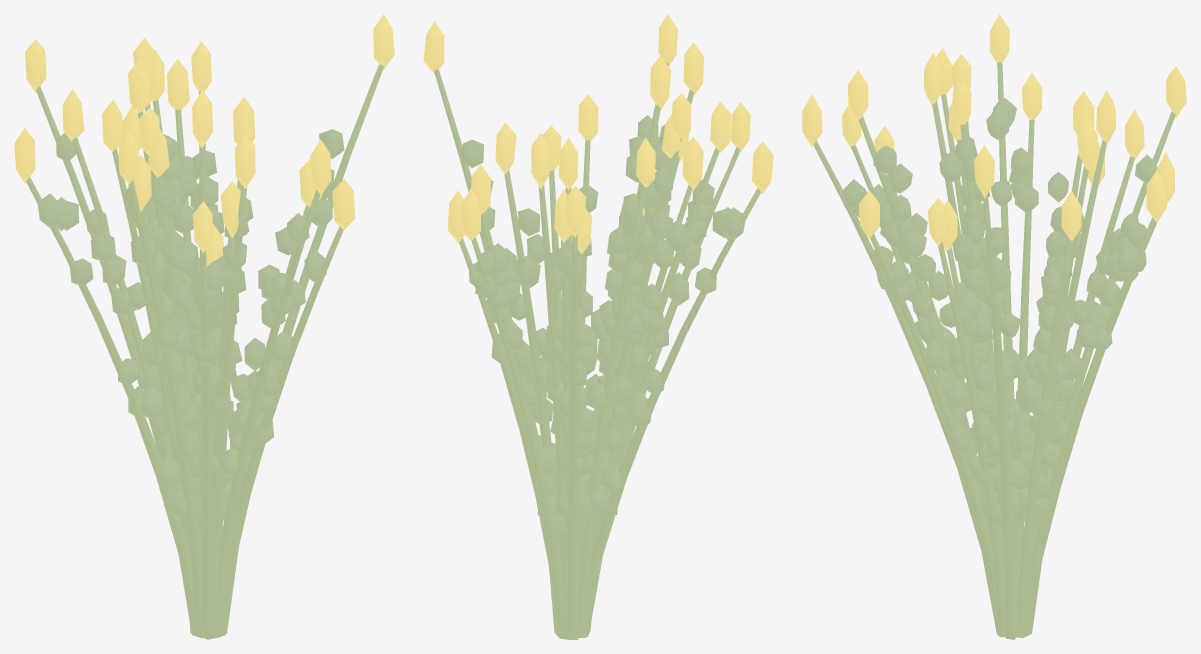
Rendered from Blender_Ocotillo_3.glb.
3 views of the same model, side by side, from view 1: azimuth 30°, elevation 25°; view 2: azimuth 150°, elevation 25°; view 3: azimuth 270°, elevation 25° (orthographic). The views are drawn at different scales.
Visible parts, largest first — view 1: Blender_Ocotillo_3; view 2: Blender_Ocotillo_3; view 3: Blender_Ocotillo_3.
Part boxes in pixels (x1,y1,x2,y2): Blender_Ocotillo_3: [14, 14, 394, 639]; Blender_Ocotillo_3: [423, 14, 773, 639]; Blender_Ocotillo_3: [802, 14, 1186, 639].
Bounding box in the file's own units: 3.85 × 5.89 × 3.66.
